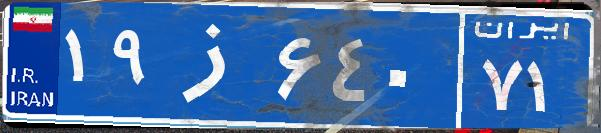0: (385, 28, 445, 110)
1: (57, 26, 110, 107), (525, 38, 570, 115)
4: (330, 28, 385, 110)
6: (273, 28, 330, 110)
7: (475, 38, 525, 113)
9: (110, 28, 158, 105)
ز: (158, 15, 273, 115)
